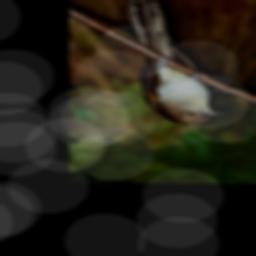Cuckoo: (126, 0, 224, 126)
